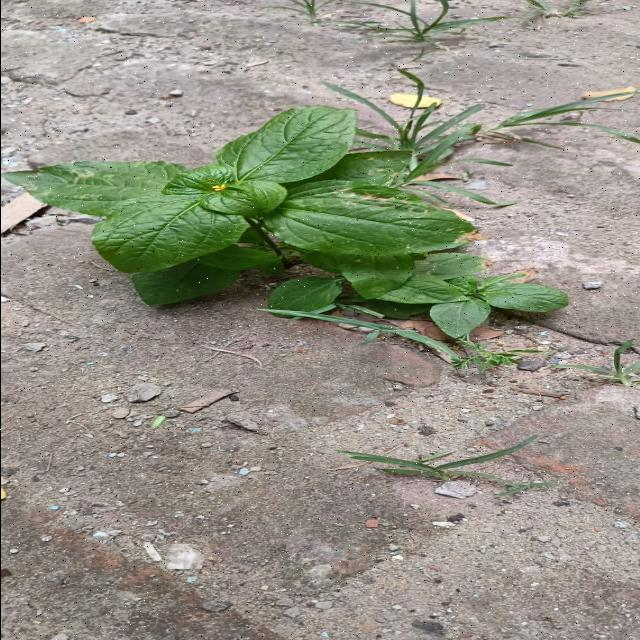plant: (5, 106, 567, 336)
